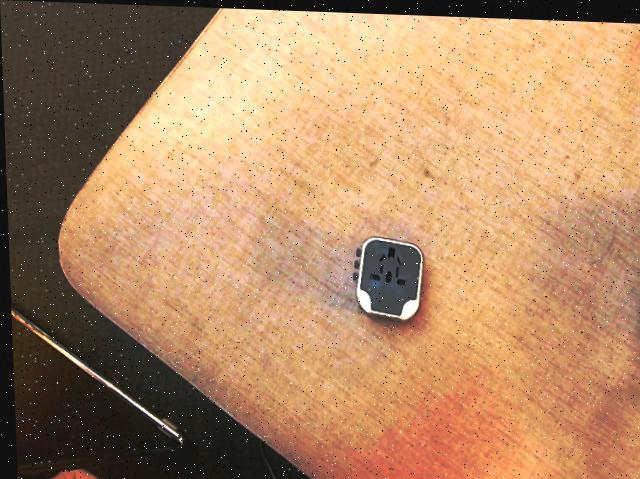adapter: (348, 233, 423, 319)
